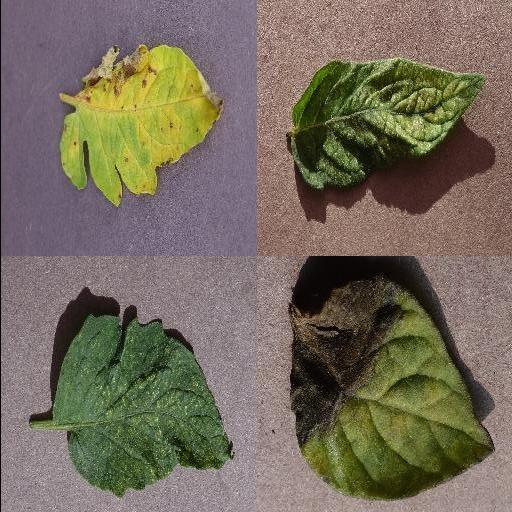Late Blight: (287, 276, 495, 502)
Septoria: (57, 46, 223, 208)
Spider Mites: (53, 312, 235, 498), (293, 58, 485, 188)
